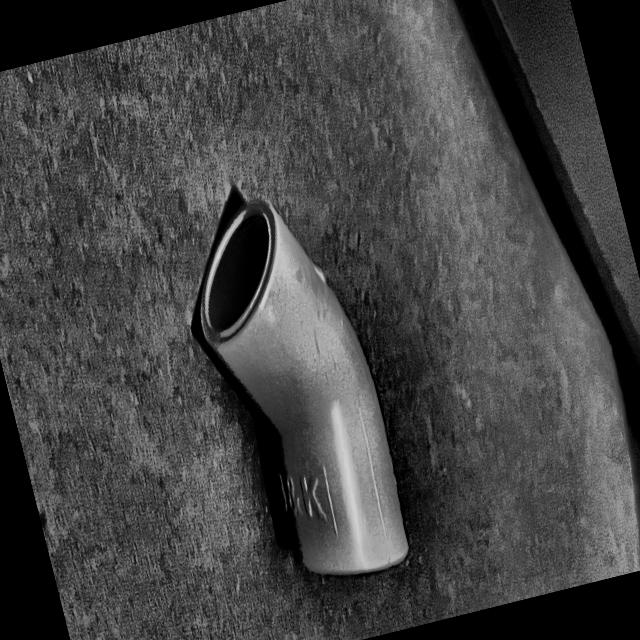ELBOW45: (198, 199, 407, 574)
